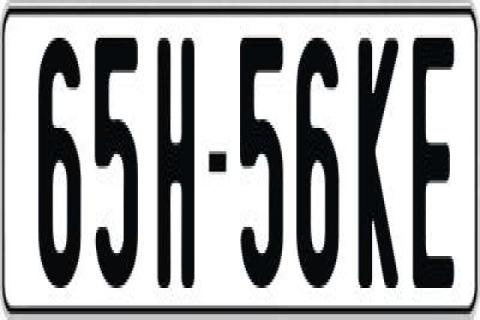0: (36, 29, 84, 294), (237, 38, 286, 297), (92, 35, 140, 288), (292, 35, 336, 291)
E: (412, 35, 454, 291)
H: (154, 32, 194, 288)
K: (358, 35, 400, 285)
